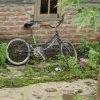bicycles: (5, 12, 78, 66)
